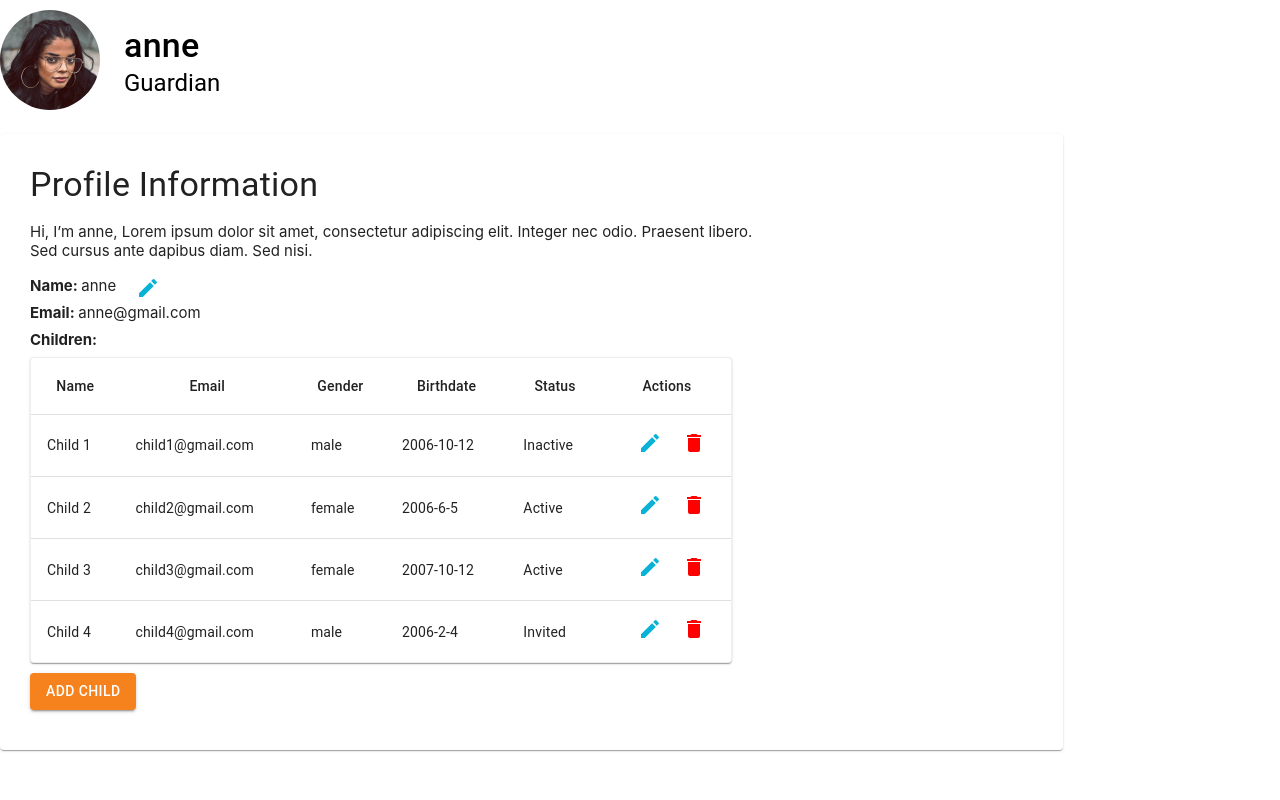
Test: Render guardian profile › Name input is editable
Click the icon with test id "edit_icon". click: (148, 288)
box: [136,276,160,300]
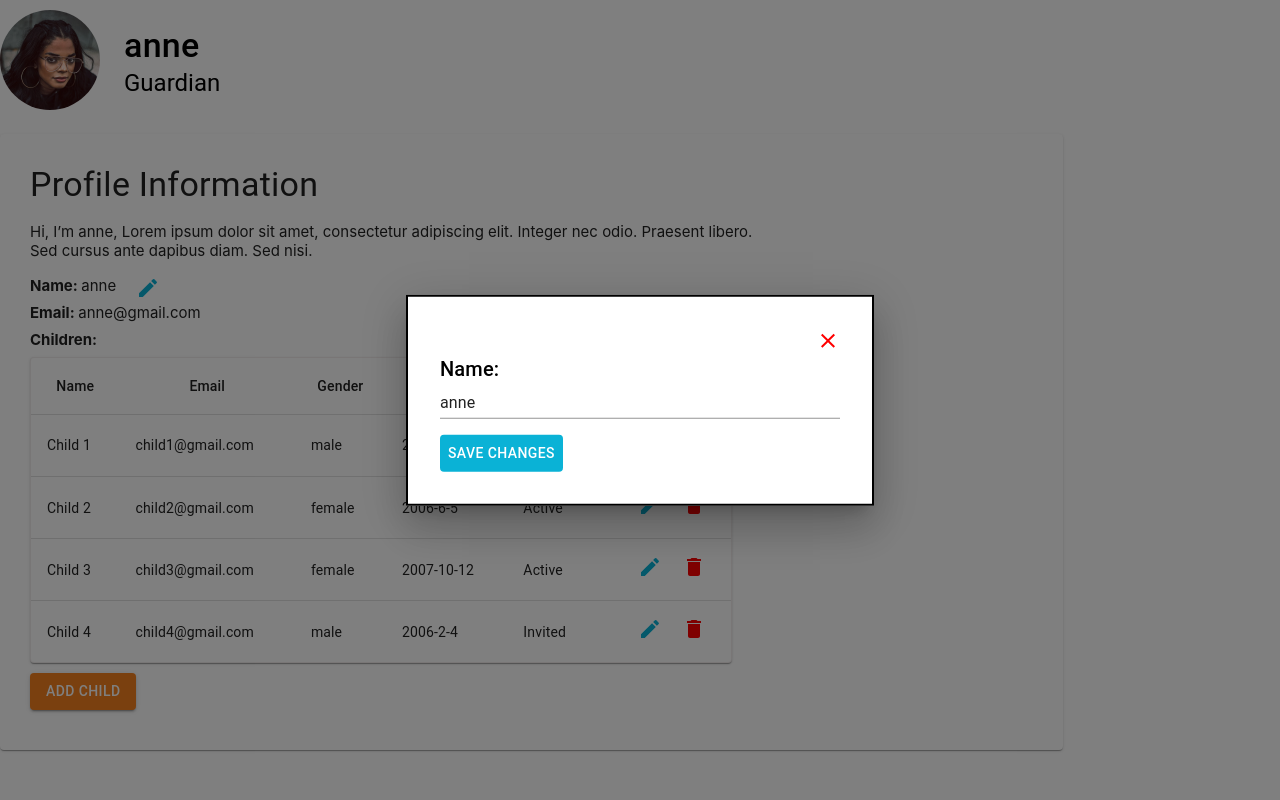
expect the element with test id "name_field" is shown: met, box [440,387,840,419]
